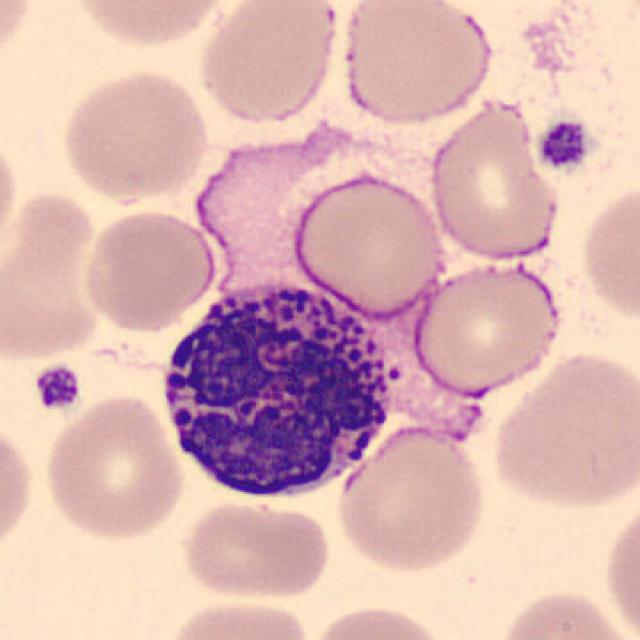Basophil: (153, 264, 409, 512)
Platelets: (534, 116, 596, 173), (30, 362, 82, 414)
RBC: (288, 167, 452, 321), (487, 347, 638, 513), (332, 422, 490, 576), (426, 95, 562, 266), (39, 390, 189, 544), (402, 257, 565, 395), (55, 66, 213, 206), (336, 0, 496, 129), (192, 0, 345, 127), (0, 187, 105, 365), (78, 206, 219, 334), (178, 497, 334, 603), (576, 174, 640, 330), (64, 0, 235, 51), (492, 585, 638, 640), (162, 594, 314, 640), (601, 492, 640, 640), (308, 601, 452, 640), (0, 414, 37, 560), (0, 129, 21, 261), (0, 1, 36, 70)
